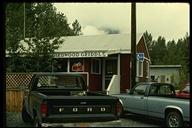house: (5, 33, 150, 79)
tree: (6, 3, 83, 69)
truck: (20, 68, 123, 126), (116, 78, 190, 126)
